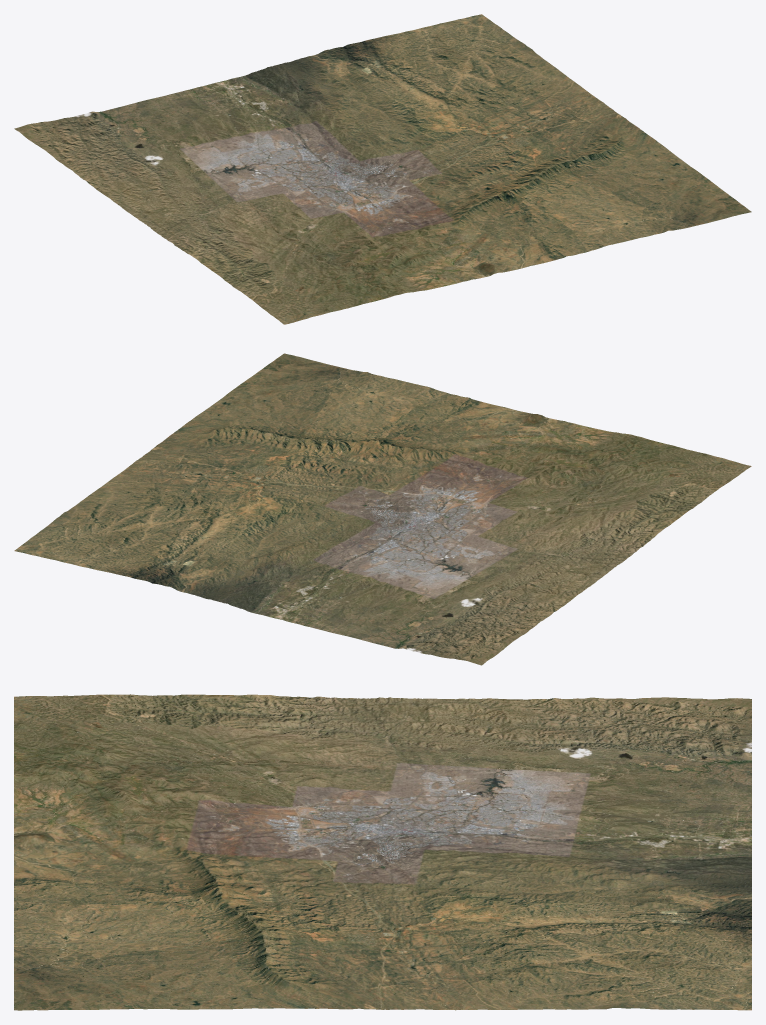
The model's file is context.glb.
The picture shows the model from 3 angles, top to bottom: view 1: azimuth 30°, elevation 25°; view 2: azimuth 150°, elevation 25°; view 3: azimuth 270°, elevation 25°; orthographic projection. The views are drawn at different scales.
Visible parts, largest first — view 1: geo_terrain; view 2: geo_terrain; view 3: geo_terrain.
Boxes of the visible parts, <box> form: geo_terrain: <box>14,14,751,324</box>; geo_terrain: <box>14,353,751,665</box>; geo_terrain: <box>14,694,751,1010</box>.
Bounding box in the file's own units: 40505 × 1072 × 40505.
40 materials, 4 textured.
